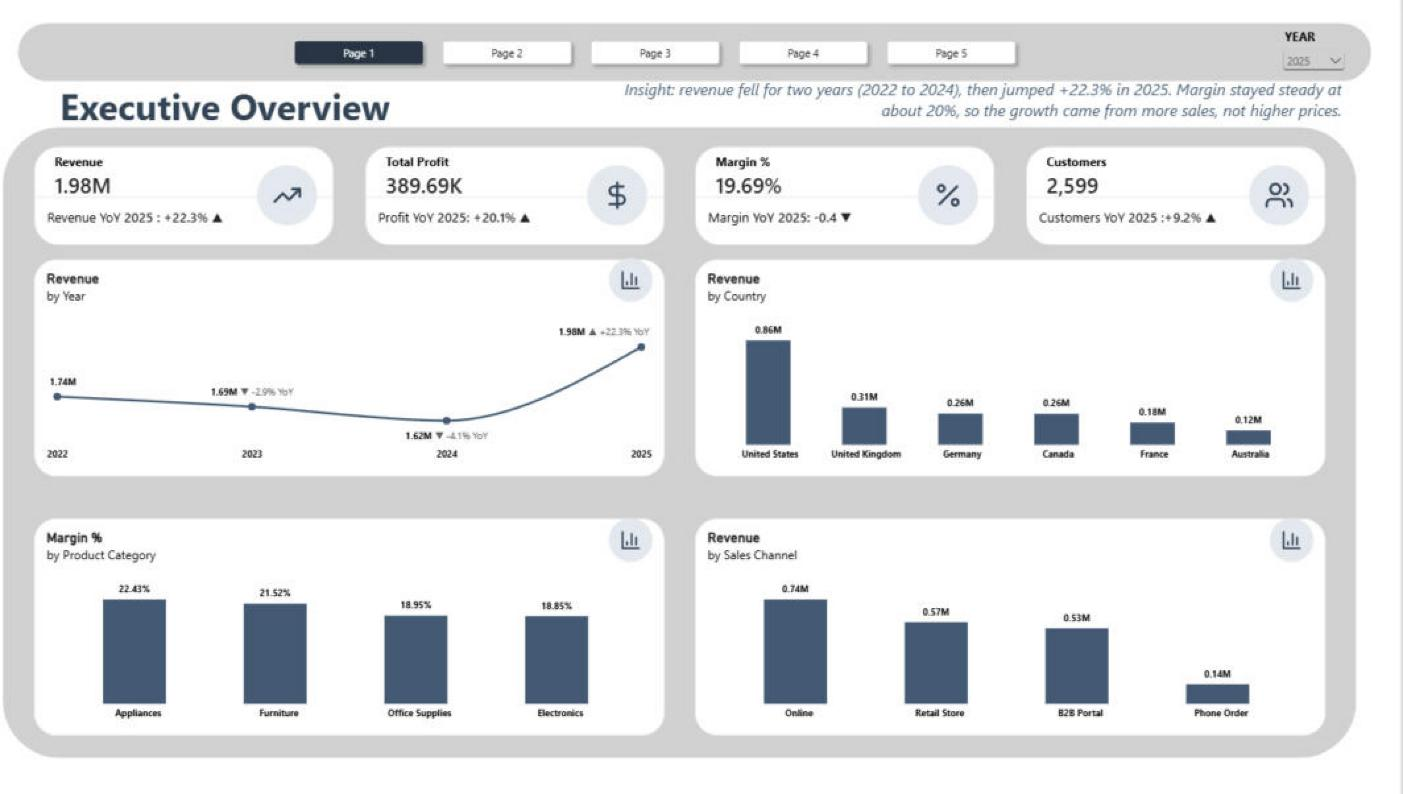

The page's visual inventory and layout, read from the dashboard file:
{"tool":"powerbi","page":{"name":"Page 1","canvas":[1920,1080],"ordinal":0},"visuals":[{"type":"shape","box":[80.2,42.3,1800.4,77.3],"z":0},{"type":"textbox","title":"Executive Overview","box":[135.7,119.6,592.3,61.3],"z":1000},{"type":"shape","box":[59.8,180.9,1800.4,838.9],"z":2000},{"type":"pageNavigator","box":[439.1,56.9,980.4,49.6],"z":3000},{"type":"cardVisual","fields":{"Data":["vw_valid_sales.Revenue"]},"box":[100.7,206.4,399.7,132.1],"z":3000,"group":"g2"},{"type":"cardVisual","fields":{"Data":["vw_valid_sales.Total_Profit"]},"box":[540.4,205.7,399.7,132.1],"z":4000,"group":"g2"},{"type":"group","id":"g1","title":"Group 1","box":[100.7,356,1718.7,633.2],"z":4000},{"type":"group","id":"g2","title":"Group 2","box":[100.7,205.7,1718.7,132.8],"z":5000},{"type":"cardVisual","fields":{"Data":["vw_valid_sales.Margin %"]},"box":[980,205.7,399.7,132.1],"z":5000,"group":"g2"},{"type":"cardVisual","fields":{"Data":["vw_valid_sales.Customers Display"]},"box":[1419.7,205.7,399.7,132.1],"z":6000,"group":"g2"},{"type":"image","box":[1254.7,232,125.5,80.2],"z":6000},{"type":"image","box":[375,232,125.5,80.2],"z":7000},{"type":"lineChart","fields":{"Category":["Calendar.Year"],"Y":["vw_valid_sales.Revenue"]},"box":[100.7,356,838.9,288.7],"z":7000,"group":"g1"},{"type":"image","box":[814.1,232,125.5,80.2],"z":8000},{"type":"columnChart","fields":{"Category":["vw_valid_sales.Country"],"Y":["vw_valid_sales.Revenue"]},"box":[980.5,356,838.9,288.7],"z":8000,"group":"g1"},{"type":"image","box":[1693.9,232,125.5,80.2],"z":9000},{"type":"columnChart","fields":{"Category":["vw_valid_sales.Product_Category"],"Y":["vw_valid_sales.Margin %"]},"box":[100.7,700.5,838.9,288.7],"z":9000,"group":"g1"},{"type":"slicer","fields":{"Values":["vw_valid_sales.Order_Year"]},"box":[1757.1,49.9,93.1,63.2],"z":10000},{"type":"columnChart","fields":{"Category":["vw_valid_sales.Sales_Channel"],"Y":["vw_valid_sales.Revenue"]},"box":[980.5,700.5,838.9,288.7],"z":10000,"group":"g1"},{"type":"image","box":[850.1,355.7,90,57.6],"z":11000},{"type":"image","box":[1729.6,355.7,90,57.6],"z":12000},{"type":"image","box":[1729.6,701,90,57.6],"z":13000},{"type":"image","box":[850.1,701,90,57.6],"z":14000},{"type":"textbox","box":[840,116,1000,64],"z":15000}]}

Visuals, with their boxes in screenshot pixels (x1, y1, x2, y2), scaled from the page's 1920x1080 canvas onto the 1403x794 screenshot:
shape: l=59, t=31, r=1374, b=88
"Executive Overview" textbox: l=99, t=88, r=532, b=133
shape: l=44, t=133, r=1359, b=750
pageNavigator: l=321, t=42, r=1037, b=78
cardVisual - vw_valid_sales.Revenue: l=74, t=152, r=366, b=249
cardVisual - vw_valid_sales.Total_Profit: l=395, t=151, r=687, b=248
"Group 1" group: l=74, t=262, r=1329, b=727
"Group 2" group: l=74, t=151, r=1329, b=249
cardVisual - vw_valid_sales.Margin %: l=716, t=151, r=1008, b=248
cardVisual - vw_valid_sales.Customers Display: l=1037, t=151, r=1329, b=248
image: l=917, t=171, r=1009, b=230
image: l=274, t=171, r=366, b=230
lineChart - Calendar.Year x vw_valid_sales.Revenue: l=74, t=262, r=687, b=474
image: l=595, t=171, r=687, b=230
columnChart - vw_valid_sales.Country x vw_valid_sales.Revenue: l=716, t=262, r=1329, b=474
image: l=1238, t=171, r=1329, b=230
columnChart - vw_valid_sales.Product_Category x vw_valid_sales.Margin %: l=74, t=515, r=687, b=727
slicer - vw_valid_sales.Order_Year: l=1284, t=37, r=1352, b=83
columnChart - vw_valid_sales.Sales_Channel x vw_valid_sales.Revenue: l=716, t=515, r=1329, b=727
image: l=621, t=262, r=687, b=304
image: l=1264, t=262, r=1330, b=304
image: l=1264, t=515, r=1330, b=558
image: l=621, t=515, r=687, b=558
textbox: l=614, t=85, r=1345, b=132
